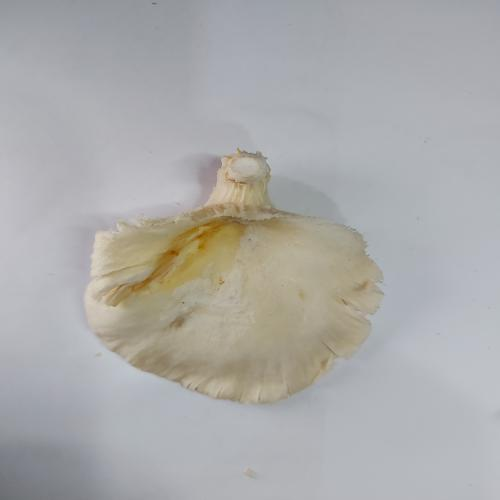Oyster Mushroom: (83, 147, 385, 405)
